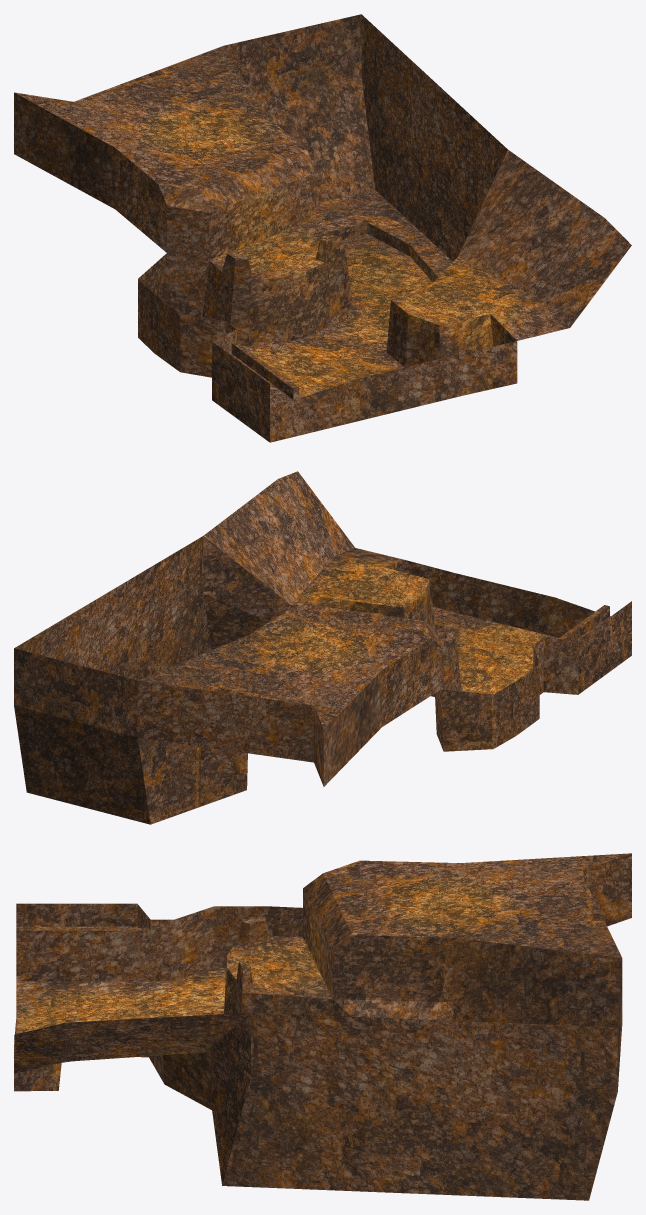
The model's file is floor-1.glb.
3 views of the same model, one above another, from view 1: azimuth 30°, elevation 25°; view 2: azimuth 150°, elevation 25°; view 3: azimuth 270°, elevation 25° (orthographic). The views are drawn at different scales.
Visible parts, largest first — view 1: fastfloor-col; view 2: fastfloor-col; view 3: fastfloor-col.
Part boxes in pixels (bbox=[...]): fastfloor-col: bbox=[14, 14, 631, 442]; fastfloor-col: bbox=[14, 471, 631, 824]; fastfloor-col: bbox=[14, 853, 631, 1200].
Bounding box in the file's own units: 50.1 × 20.91 × 67.59.
1 material, 1 textured.
